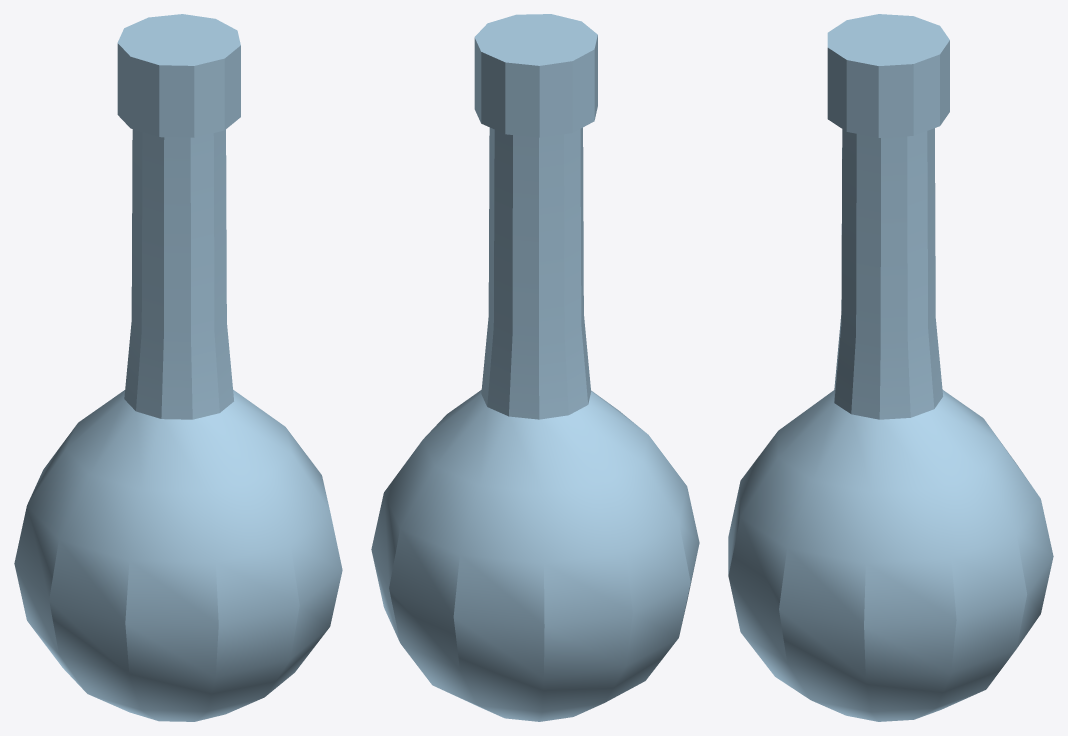
File: Shadow_Potion_1.fbx
The picture shows the model from 3 angles, left to right: view 1: azimuth 30°, elevation 25°; view 2: azimuth 150°, elevation 25°; view 3: azimuth 270°, elevation 25°; orthographic projection.
Visible parts, largest first — view 1: Sphere.029; view 2: Sphere.029; view 3: Sphere.029.
Part boxes in pixels (bbox=[...]): Sphere.029: bbox=[14, 14, 342, 721]; Sphere.029: bbox=[371, 14, 699, 721]; Sphere.029: bbox=[728, 14, 1053, 721].
Size of the model in its own units: 28.86 by 64.63 by 28.57.
